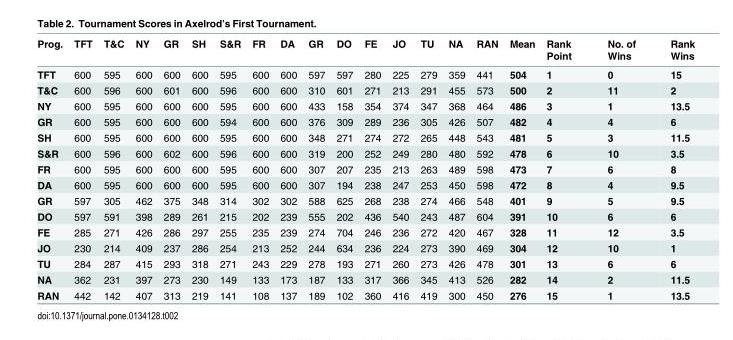table: (36, 37, 694, 300)
table column: (588, 37, 652, 300), (540, 37, 588, 300), (652, 37, 694, 300), (503, 37, 540, 300), (470, 37, 503, 300), (97, 37, 129, 300), (213, 37, 245, 300), (36, 37, 67, 300), (67, 37, 97, 300), (301, 37, 330, 300), (129, 37, 157, 300), (157, 37, 185, 300), (185, 37, 213, 300), (245, 37, 273, 300), (273, 37, 301, 300), (330, 37, 358, 300), (358, 37, 386, 300), (386, 37, 414, 300), (414, 37, 442, 300), (442, 37, 470, 300)
table column header: (36, 37, 694, 64)
table row: (36, 37, 694, 64), (36, 64, 694, 81), (36, 81, 694, 97), (36, 97, 694, 113), (36, 113, 694, 129), (36, 129, 694, 145), (36, 160, 694, 176), (36, 176, 694, 192), (36, 192, 694, 208), (36, 223, 694, 239), (36, 239, 694, 255), (36, 255, 694, 271), (36, 271, 694, 287), (36, 145, 694, 160), (36, 208, 694, 223), (36, 287, 694, 300)
